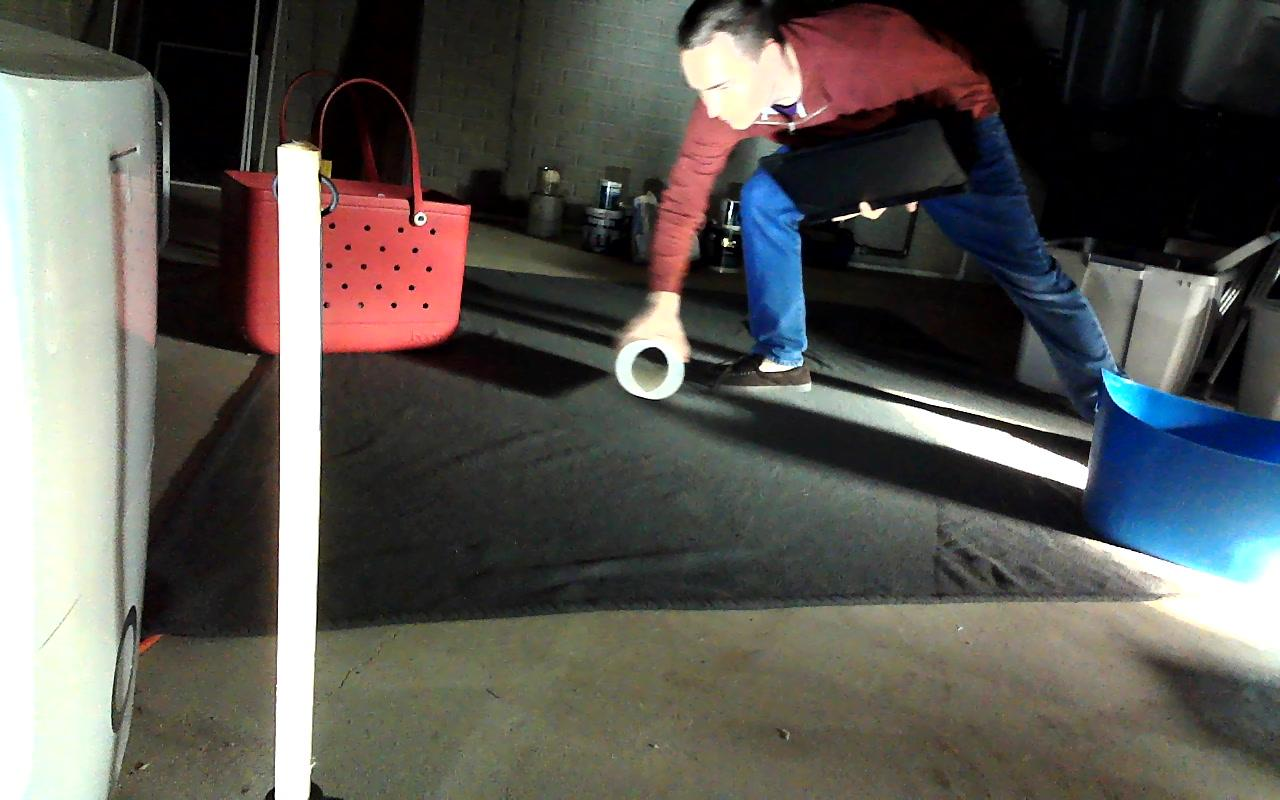coral: (613, 333, 686, 400)
